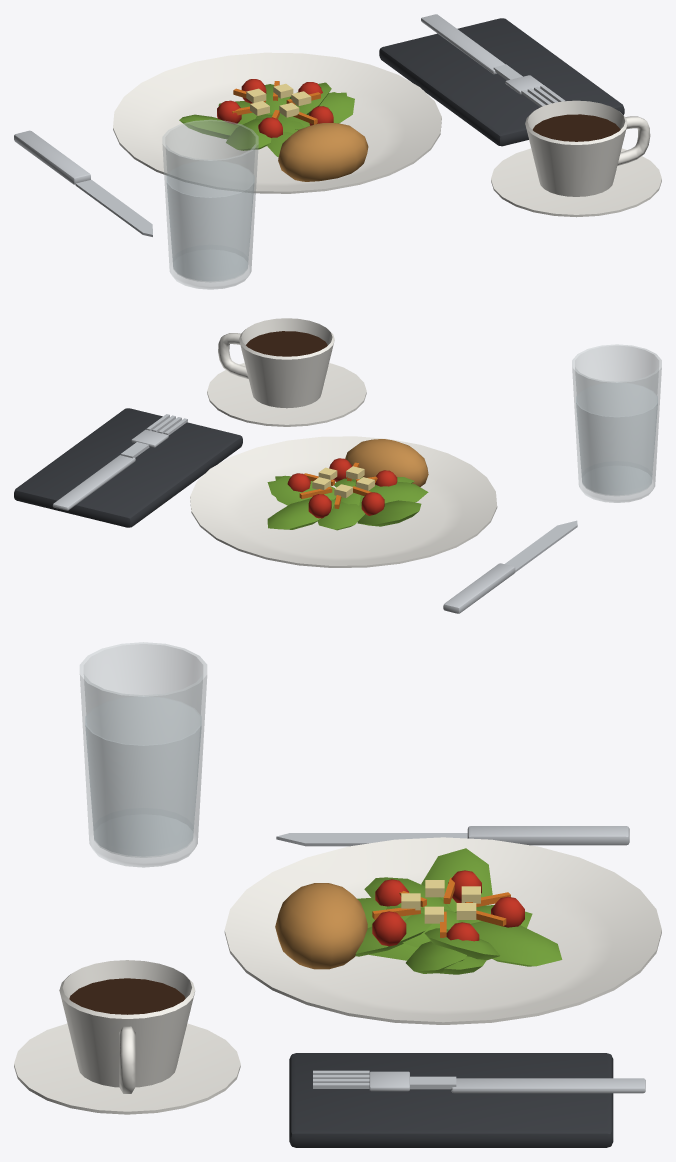
File: HH-DINING-SET-C.glb
3 renders of one model, top to bottom at view 1: azimuth 30°, elevation 25°; view 2: azimuth 150°, elevation 25°; view 3: azimuth 270°, elevation 25°, orthographic. The views are drawn at different scales.
Visible parts, largest first — view 1: Dining_Plate, Dining_CoffeeCup_Mesh, Dining_WaterGlass_Glass, Dining_Napkin, Dining_Meal_C_Mesh, Dining_WaterGlass_Water, Dining_Knife_Mesh, Dining_Fork_Mesh; view 2: Dining_Plate, Dining_Napkin, Dining_CoffeeCup_Mesh, Dining_WaterGlass_Glass, Dining_Meal_C_Mesh, Dining_WaterGlass_Water, Dining_Fork_Mesh, Dining_Knife_Mesh; view 3: Dining_Plate, Dining_Napkin, Dining_WaterGlass_Glass, Dining_CoffeeCup_Mesh, Dining_Meal_C_Mesh, Dining_WaterGlass_Water, Dining_Fork_Mesh, Dining_Knife_Mesh.
Part boxes in pixels (left/top/right/bottom): Dining_Plate: left=113, top=52, right=441, bottom=193; Dining_CoffeeCup_Mesh: left=491, top=100, right=661, bottom=217; Dining_WaterGlass_Glass: left=162, top=119, right=258, bottom=289; Dining_Napkin: left=379, top=18, right=624, bottom=146; Dining_Meal_C_Mesh: left=179, top=79, right=368, bottom=181; Dining_WaterGlass_Water: left=167, top=161, right=254, bottom=280; Dining_Knife_Mesh: left=14, top=130, right=152, bottom=236; Dining_Fork_Mesh: left=421, top=14, right=565, bottom=107; Dining_Plate: left=190, top=436, right=497, bottom=567; Dining_Napkin: left=14, top=408, right=242, bottom=527; Dining_CoffeeCup_Mesh: left=207, top=318, right=366, bottom=426; Dining_WaterGlass_Glass: left=572, top=344, right=661, bottom=502; Dining_Meal_C_Mesh: left=267, top=439, right=428, bottom=530; Dining_WaterGlass_Water: left=576, top=383, right=657, bottom=494; Dining_Fork_Mesh: left=52, top=414, right=187, bottom=510; Dining_Knife_Mesh: left=443, top=520, right=577, bottom=613; Dining_Plate: left=224, top=837, right=661, bottom=1024; Dining_Napkin: left=289, top=1053, right=613, bottom=1147; Dining_WaterGlass_Glass: left=79, top=642, right=207, bottom=867; Dining_CoffeeCup_Mesh: left=14, top=960, right=240, bottom=1114; Dining_Meal_C_Mesh: left=275, top=848, right=562, bottom=974; Dining_WaterGlass_Water: left=85, top=697, right=201, bottom=856; Dining_Fork_Mesh: left=313, top=1070, right=645, bottom=1093; Dining_Knife_Mesh: left=276, top=826, right=629, bottom=846.
Size of the model in its own units: 0.485 by 0.12 by 0.4.
